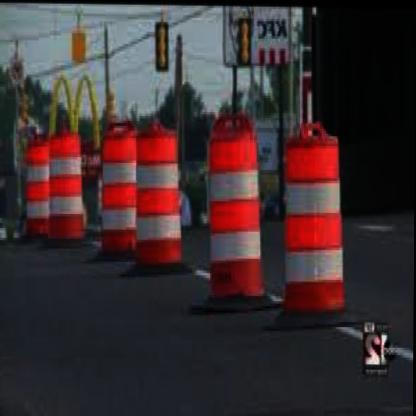obstacle: (283, 125, 345, 319), (203, 123, 268, 305), (130, 123, 183, 272), (49, 134, 84, 241)
